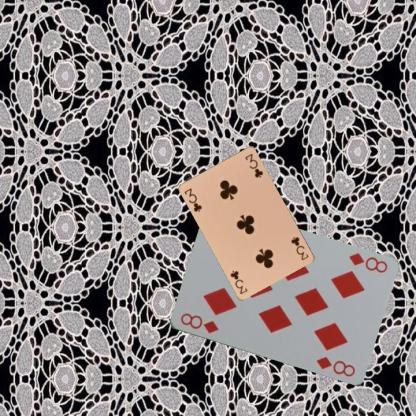3c: (288, 234, 310, 262), (182, 186, 203, 213)
8d: (178, 310, 220, 335), (346, 250, 388, 275)
